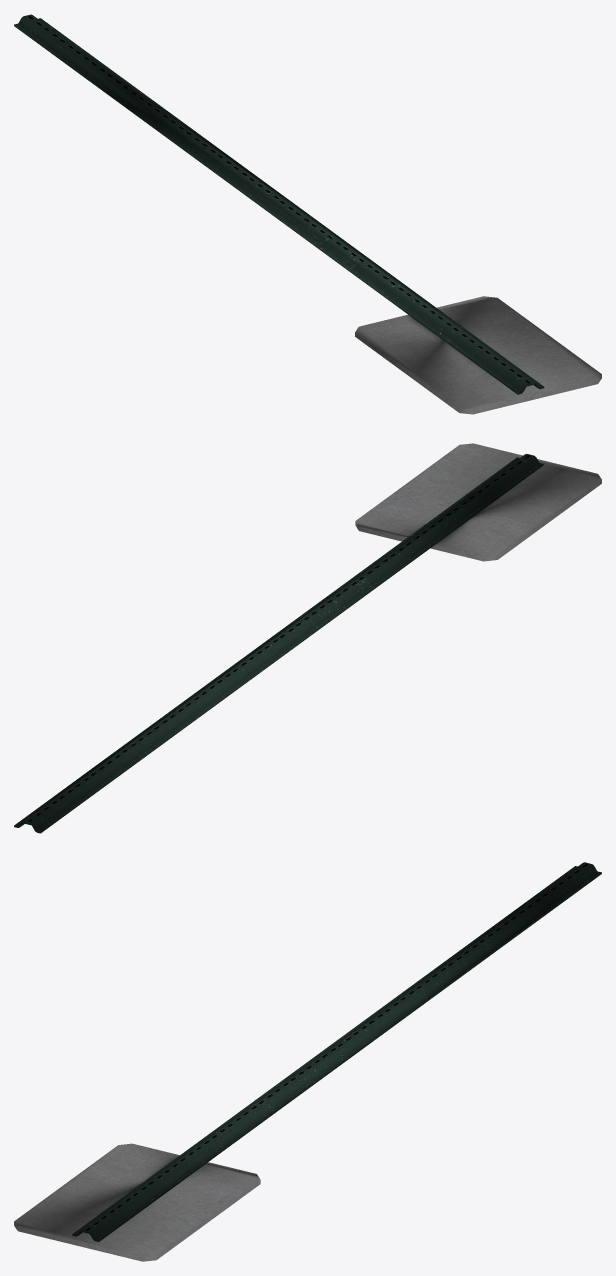
Rendered from signinfosmall.fbx.
3 views of the same model, one above another, from view 1: azimuth 30°, elevation 25°; view 2: azimuth 150°, elevation 25°; view 3: azimuth 330°, elevation 25° (orthographic).
Parts seen in each view (by area): view 1: signinfosmall; view 2: signinfosmall; view 3: signinfosmall.
Boxes of the visible parts, x1,y1,x2,y2 form: signinfosmall: (14, 14, 601, 414); signinfosmall: (14, 443, 601, 833); signinfosmall: (14, 862, 601, 1261).
Size of the model in its own units: 0.401 by 0.031 by 2.48.
